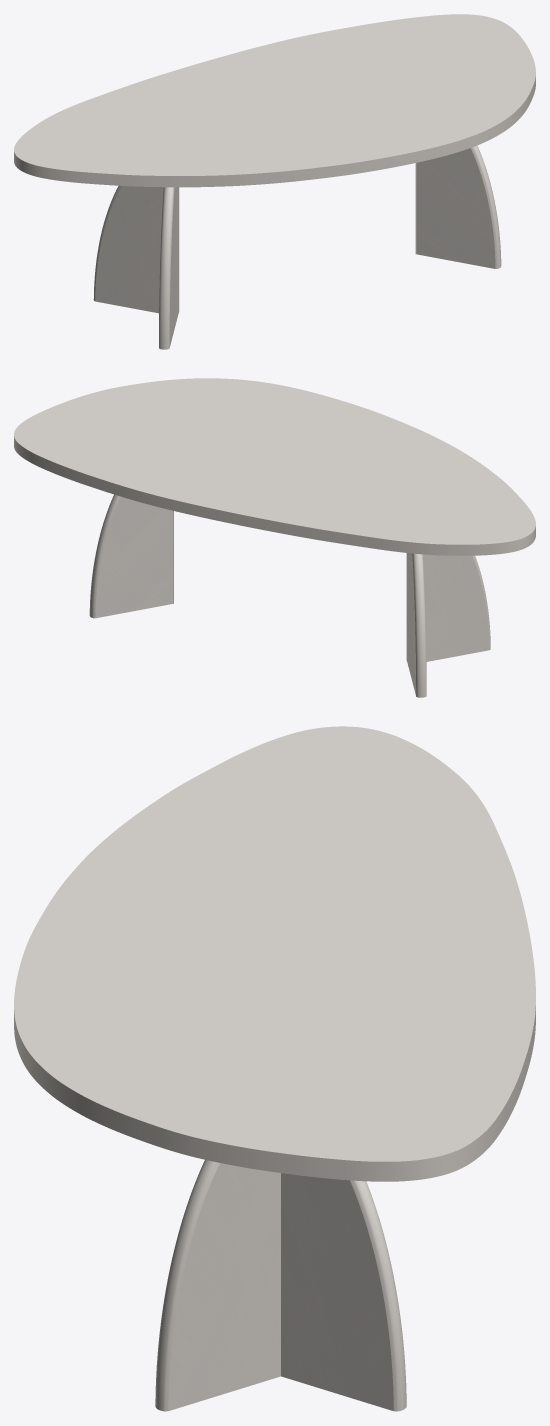
File: pearlwhite_pebbletop_standard_newtable2.glb
3 renders of one model, top to bottom at view 1: azimuth 30°, elevation 25°; view 2: azimuth 150°, elevation 25°; view 3: azimuth 270°, elevation 25°, orthographic. The views are drawn at different scales.
Visible parts, largest first — view 1: standard_pebbletop, newtable2_singleright2, newtable2_singleleft1, newtable2_singleright1; view 2: standard_pebbletop, newtable2_singleleft2, newtable2_singleright1, newtable2_singleleft1; view 3: standard_pebbletop, newtable2_singleright2, newtable2_singleleft2.
Boxes of the visible parts, left/top/right/bottom form: standard_pebbletop: left=14, top=14, right=535, bottom=187; newtable2_singleright2: left=415, top=145, right=501, bottom=268; newtable2_singleleft1: left=93, top=185, right=179, bottom=313; newtable2_singleright1: left=159, top=187, right=178, bottom=349; standard_pebbletop: left=14, top=378, right=535, bottom=555; newtable2_singleleft2: left=89, top=494, right=173, bottom=618; newtable2_singleright1: left=406, top=553, right=490, bottom=661; newtable2_singleleft1: left=407, top=553, right=426, bottom=697; standard_pebbletop: left=14, top=726, right=535, bottom=1181; newtable2_singleright2: left=155, top=1160, right=280, bottom=1411; newtable2_singleleft2: left=281, top=1173, right=406, bottom=1411.
Bounding box in the file's own units: 7.5 × 2.5 × 3.8.
1 material, 1 textured.
